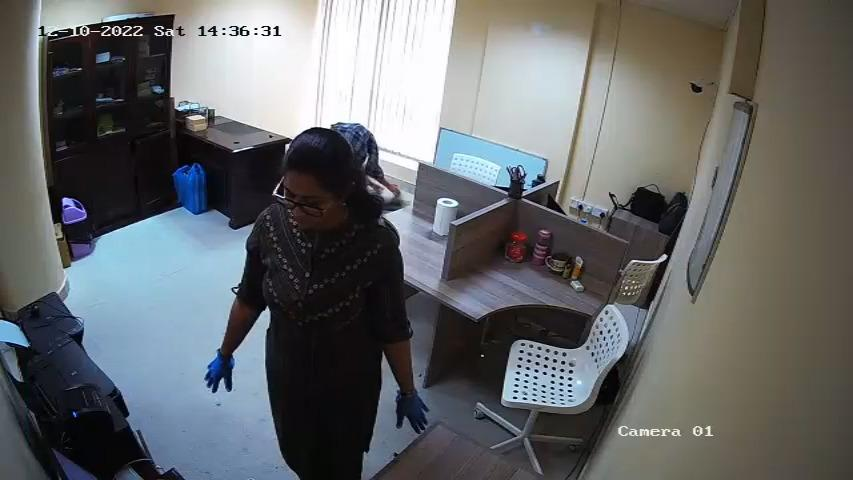gloves: (200, 343, 238, 398), (391, 389, 433, 436)
